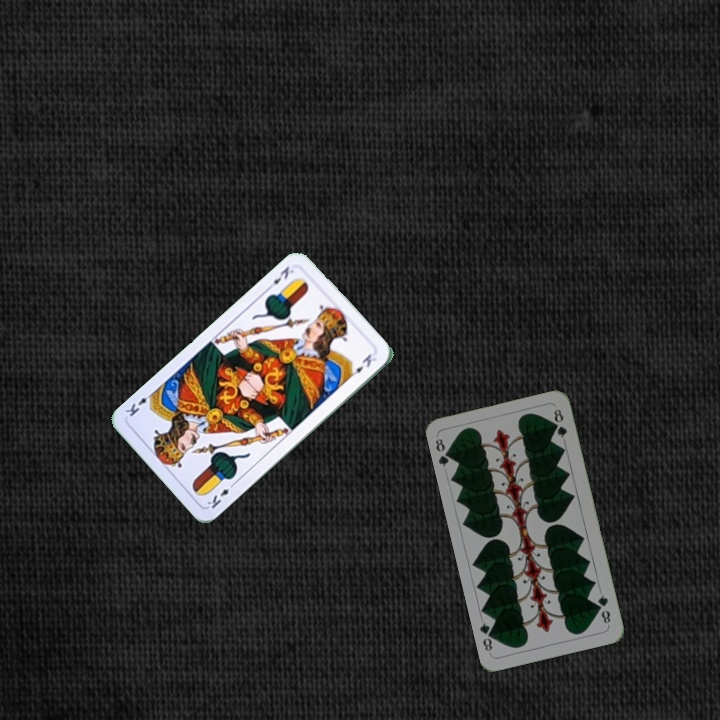EK: (203, 478, 238, 511), (263, 262, 297, 293)
G8: (431, 434, 455, 469), (593, 591, 613, 626)
